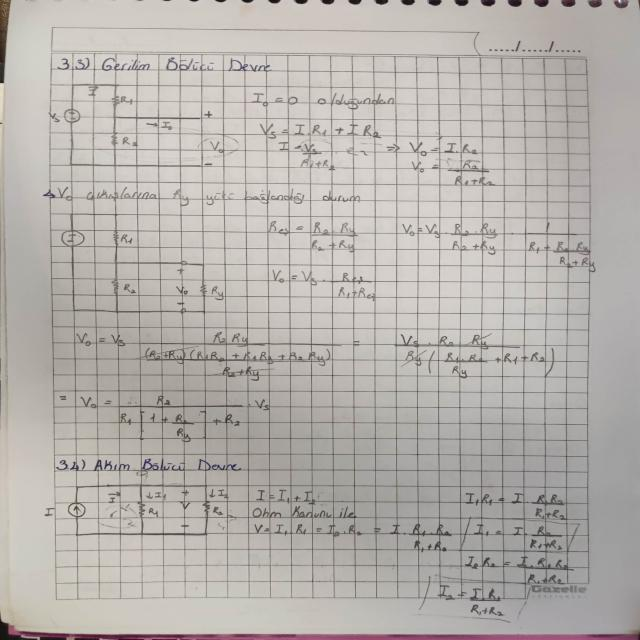image: (59, 208, 238, 323), (42, 76, 244, 174), (36, 478, 241, 544)
math: (247, 484, 601, 624), (72, 325, 562, 391), (261, 214, 602, 308), (249, 85, 509, 191), (64, 391, 278, 447)
text: (46, 181, 364, 210), (54, 51, 274, 76), (52, 456, 252, 476)
